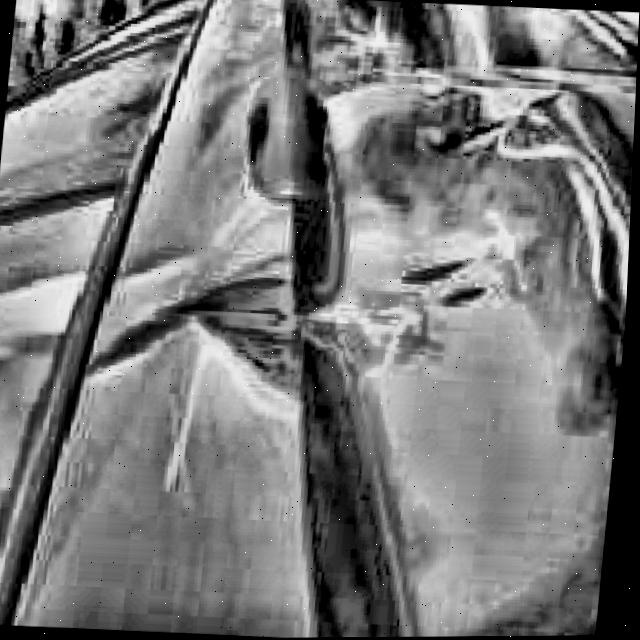door_dent: (200, 244, 428, 400)
